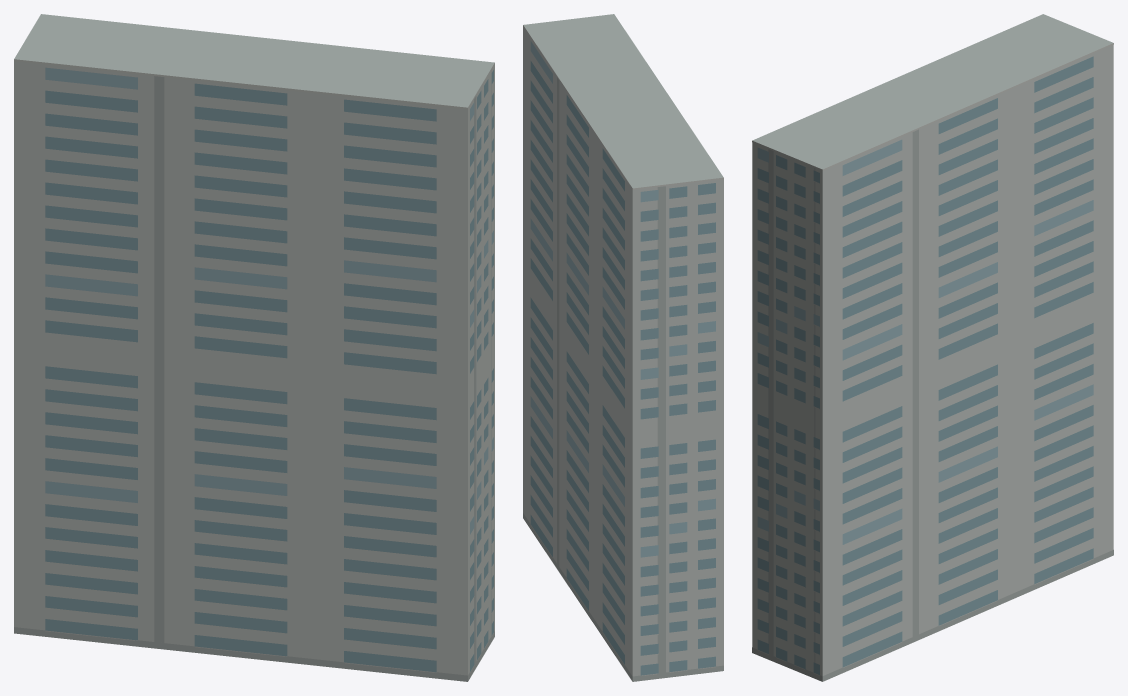
The model's file is residential-cb060efe-344e-4fe7-9902-dfe6c0aeb7be.glb.
3 renders of one model, left to right at view 1: azimuth 30°, elevation 25°; view 2: azimuth 150°, elevation 25°; view 3: azimuth 270°, elevation 25°, orthographic. The views are drawn at different scales.
Visible parts, largest first — view 1: residential-cb060efe-344e-4fe7-9902-dfe6c0aeb7be.tmp; view 2: residential-cb060efe-344e-4fe7-9902-dfe6c0aeb7be.tmp; view 3: residential-cb060efe-344e-4fe7-9902-dfe6c0aeb7be.tmp.
Part boxes in pixels (x1,y1,x2,y2): residential-cb060efe-344e-4fe7-9902-dfe6c0aeb7be.tmp: [14, 14, 494, 681]; residential-cb060efe-344e-4fe7-9902-dfe6c0aeb7be.tmp: [523, 14, 723, 681]; residential-cb060efe-344e-4fe7-9902-dfe6c0aeb7be.tmp: [752, 14, 1113, 681].
Size of the model in its own units: 46.87 by 72 by 46.06.
